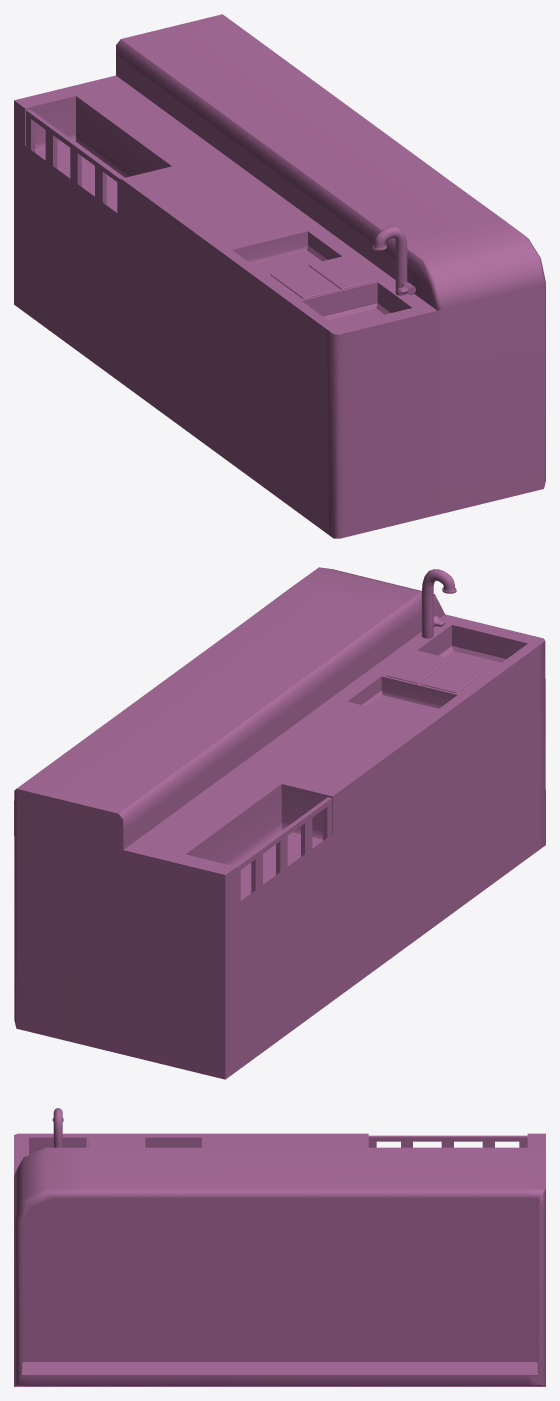
File: MOD_BAR Bar.fbx
The picture shows the model from 3 angles, top to bottom: view 1: azimuth 30°, elevation 25°; view 2: azimuth 150°, elevation 25°; view 3: azimuth 270°, elevation 25°; orthographic projection. The views are drawn at different scales.
Visible parts, largest first — view 1: BarSurface, BottleGuard, Faucet; view 2: BarSurface, BottleGuard, Faucet; view 3: BarSurface, BottleGuard, Faucet.
Part boxes in pixels (x1,y1,x2,y2): BarSurface: (14,14,545,538); BottleGuard: (26,109,123,215); Faucet: (372,226,407,295); BarSurface: (14,567,545,1079); BottleGuard: (234,797,331,903); Faucet: (421,569,456,638); BarSurface: (14,1133,545,1386); BottleGuard: (368,1135,527,1147); Faucet: (52,1108,63,1147).
Bounding box in the file's own units: 115 × 141 × 300.
